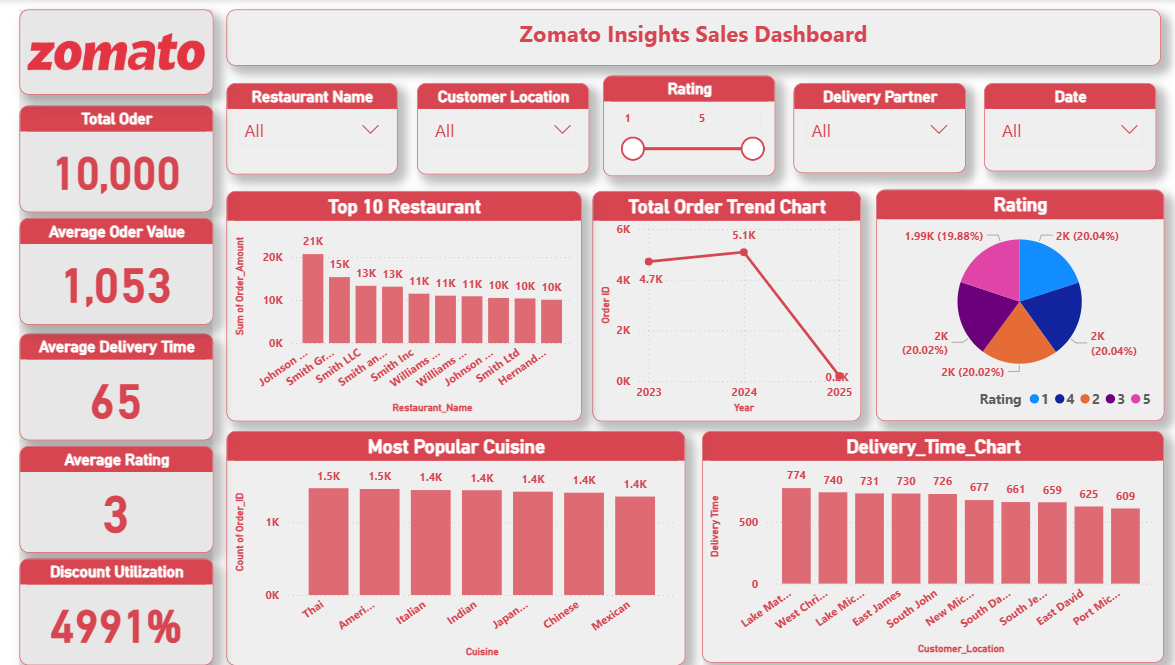

What the dashboard file says about the page in this screenshot:
{"tool":"powerbi","page":{"name":"Zomato Insights Sales Daxhboard","canvas":[1280,720],"ordinal":0},"visuals":[{"type":"textbox","box":[248.5,11.5,1009,60.9],"z":0},{"type":"slicer","title":"Restaurant Name","fields":{"Values":["Sheet1.Restaurant_Name"]},"box":[248.5,90.5,184.3,98.8],"z":0,"group":"g1"},{"type":"card","title":"Total Oder","fields":{"Values":["Count(Sheet1.Order_ID)"]},"box":[24.7,115.2,209,115.2],"z":0,"group":"g4"},{"type":"lineChart","title":"Total Order Trend Chart","fields":{"Category":["Sheet1.Order_Date.Variation.Date Hierarchy.Year"],"Y":["CountNonNull(Sheet1.Order_ID)"]},"box":[644.3,207.8,289.7,248.5],"z":0,"group":"g2"},{"type":"columnChart","title":" Delivery_Time_Chart","fields":{"Category":["Sheet1.Customer_Location"],"Y":["Sum(Sheet1.Delivery_Time_Minutes)"]},"box":[762,465.8,498.7,250.2],"z":0,"group":"g3"},{"type":"group","id":"g1","title":"Group 1","box":[248.5,83.2,1004,108.5],"z":1000},{"type":"slicer","title":"Customer Location","fields":{"Values":["Sheet1.Customer_Location"]},"box":[454.2,90.5,186,98.8],"z":1000,"group":"g1"},{"type":"columnChart","title":"Top 10 Restaurant","fields":{"Category":["Sheet1.Restaurant_Name"],"Y":["Sum(Sheet1.Order_Amount)"]},"box":[248.5,207.3,383.5,248.5],"z":1000,"group":"g2"},{"type":"card","title":"Average Delivery Time","fields":{"Values":["Avg(Sheet1.Delivery_Time_Minutes)"]},"box":[24.7,360.4,209,115.2],"z":1000,"group":"g4"},{"type":"columnChart","title":"Most Popular Cuisine","fields":{"Category":["Sheet1.Cuisine"],"Y":["CountNonNull(Sheet1.Order_ID)"]},"box":[248.5,465.8,495.4,253.5],"z":1000,"group":"g3"},{"type":"slicer","title":"Rating","fields":{"Values":["Sheet1.Rating"]},"box":[655.7,83.2,186.2,108.5],"z":2000,"group":"g1"},{"type":"group","id":"g2","title":"Group 2","box":[248.5,205.7,1012.3,250.6],"z":2000},{"type":"pieChart","title":"Rating","fields":{"Category":["Sheet1.Rating"],"Y":["CountNonNull(Sheet1.Order_ID)"]},"box":[949.7,205.7,311.1,250.2],"z":2000,"group":"g2"},{"type":"card","title":"Average Oder Value","fields":{"Values":["Avg(Sheet1.Order_Amount)"]},"box":[24.7,237,209,115.2],"z":2000,"group":"g4"},{"type":"slicer","title":"Delivery Partner","fields":{"Values":["Sheet1.Delivery_Partner"]},"box":[860.8,90.5,186,97.1],"z":3000,"group":"g1"},{"type":"group","id":"g3","title":"Group 3","box":[248.5,465.8,1012.3,253.5],"z":3000},{"type":"card","title":"Average Rating","fields":{"Values":["Avg(Sheet1.Rating)"]},"box":[24.7,482.2,209,115.2],"z":3000,"group":"g4"},{"type":"group","id":"g4","title":"Group 4","box":[24.7,11.5,209,707.8],"z":4000},{"type":"slicer","title":"Date","fields":{"Values":["Sheet1.Order_Date.Variation.Date Hierarchy.Year","Sheet1.Order_Date.Variation.Date Hierarchy.Month","Sheet1.Order_Date.Variation.Date Hierarchy.Day"]},"box":[1066.5,90.5,186,95.5],"z":4000,"group":"g1"},{"type":"card","title":"Discount Utilization","fields":{"Values":["Sheet1.Discount-utilize (%)"]},"box":[24.7,604,209,115.2],"z":4000,"group":"g4"},{"type":"image","box":[24.7,11.5,209,92.2],"z":5000,"group":"g4"}]}

Visuals, with their boxes in screenshot pixels (x1, y1, x2, y2), scaled from the page's 1280x720 canvas onto the 1175x665 screenshot:
textbox: select_region(228, 11, 1154, 67)
"Restaurant Name" slicer: select_region(228, 84, 397, 175)
"Total Oder" card: select_region(23, 106, 215, 213)
"Total Order Trend Chart" lineChart: select_region(591, 192, 857, 421)
" Delivery_Time_Chart" columnChart: select_region(699, 430, 1157, 661)
"Group 1" group: select_region(228, 77, 1150, 177)
"Customer Location" slicer: select_region(417, 84, 588, 175)
"Top 10 Restaurant" columnChart: select_region(228, 191, 580, 421)
"Average Delivery Time" card: select_region(23, 333, 215, 439)
"Most Popular Cuisine" columnChart: select_region(228, 430, 683, 664)
"Rating" slicer: select_region(602, 77, 773, 177)
"Group 2" group: select_region(228, 190, 1157, 421)
"Rating" pieChart: select_region(872, 190, 1157, 421)
"Average Oder Value" card: select_region(23, 219, 215, 325)
"Delivery Partner" slicer: select_region(790, 84, 961, 173)
"Group 3" group: select_region(228, 430, 1157, 664)
"Average Rating" card: select_region(23, 445, 215, 552)
"Group 4" group: select_region(23, 11, 215, 664)
"Date" slicer: select_region(979, 84, 1150, 172)
"Discount Utilization" card: select_region(23, 558, 215, 664)
image: select_region(23, 11, 215, 96)
